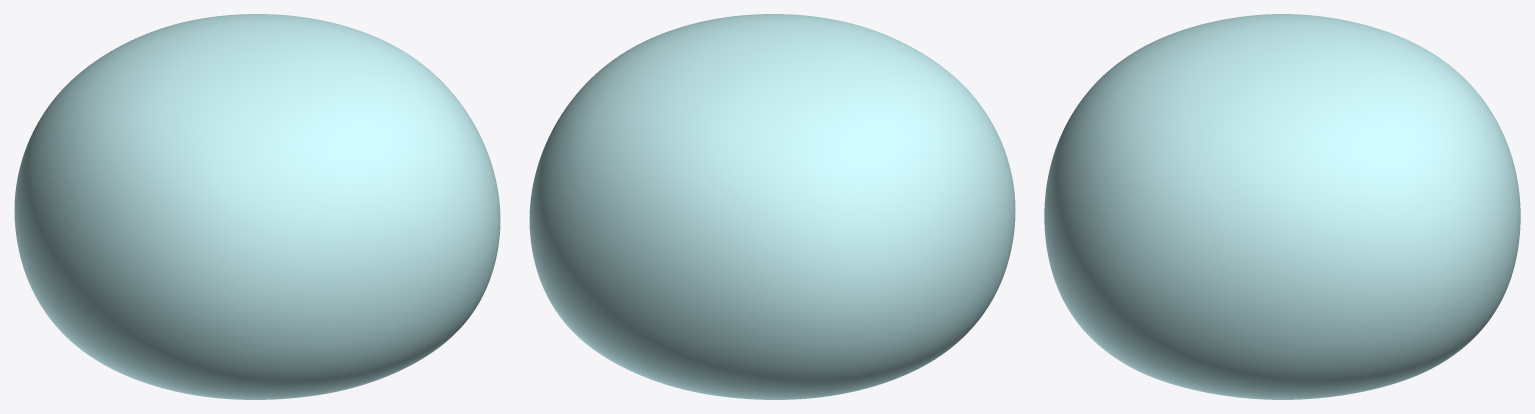
The model's file is Slime.fbx.
3 renders of one model, left to right at view 1: azimuth 30°, elevation 25°; view 2: azimuth 150°, elevation 25°; view 3: azimuth 270°, elevation 25°, orthographic.
Parts seen in each view (by area): view 1: Cube; view 2: Cube; view 3: Cube.
Boxes of the visible parts, x1,y1,x2,y2 form: Cube: (14, 14, 500, 399); Cube: (529, 14, 1015, 399); Cube: (1044, 14, 1520, 399).
Size of the model in its own units: 168 by 114 by 168.
